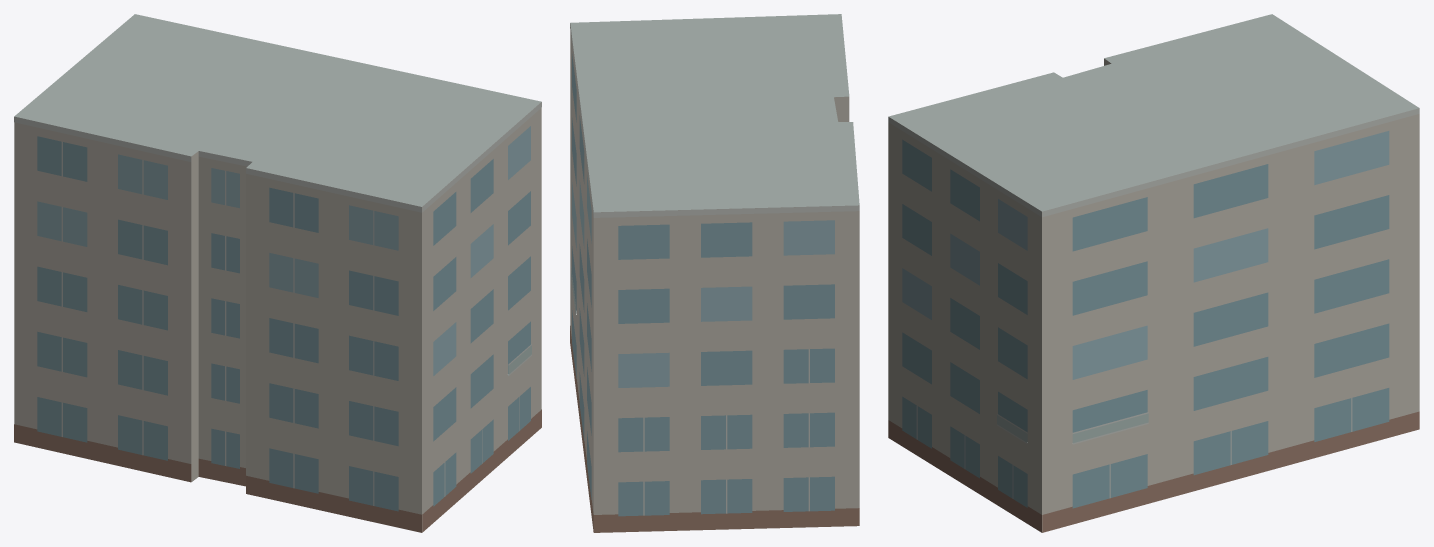
File: survey-upis-32955417.glb
The picture shows the model from 3 angles, left to right: view 1: azimuth 30°, elevation 25°; view 2: azimuth 150°, elevation 25°; view 3: azimuth 270°, elevation 25°; orthographic projection.
Visible parts, largest first — view 1: survey-upis-32955417.tmp; view 2: survey-upis-32955417.tmp; view 3: survey-upis-32955417.tmp.
Boxes of the visible parts, left/top/right/bottom form: survey-upis-32955417.tmp: left=14, top=14, right=541, bottom=532; survey-upis-32955417.tmp: left=570, top=14, right=859, bottom=532; survey-upis-32955417.tmp: left=888, top=14, right=1419, bottom=532.
Bounding box in the file's own units: 18.22 × 13.8 × 20.7.
